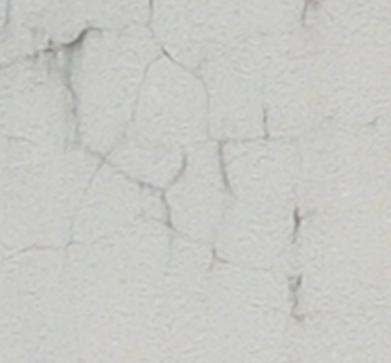fissura: (11, 7, 350, 334)
